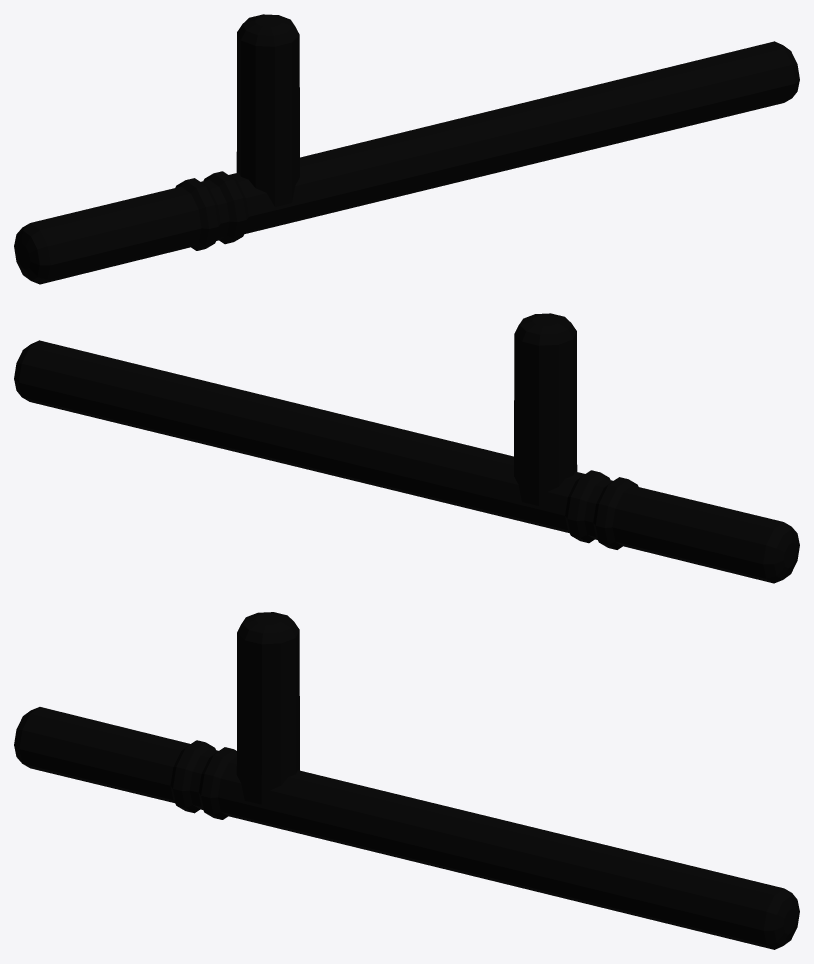
File: SM_PoliceBat_01.glb
3 renders of one model, top to bottom at view 1: azimuth 30°, elevation 25°; view 2: azimuth 150°, elevation 25°; view 3: azimuth 330°, elevation 25°, orthographic.
Parts seen in each view (by area): view 1: SM_PoliceBat_01; view 2: SM_PoliceBat_01; view 3: SM_PoliceBat_01.
Boxes of the visible parts, bbox=[...] form: SM_PoliceBat_01: bbox=[14, 14, 799, 284]; SM_PoliceBat_01: bbox=[14, 313, 799, 583]; SM_PoliceBat_01: bbox=[14, 612, 799, 949].
Size of the model in its own units: 0.6356 by 0.1637 by 0.0522.
Materials: 1 (1 with a texture image).
